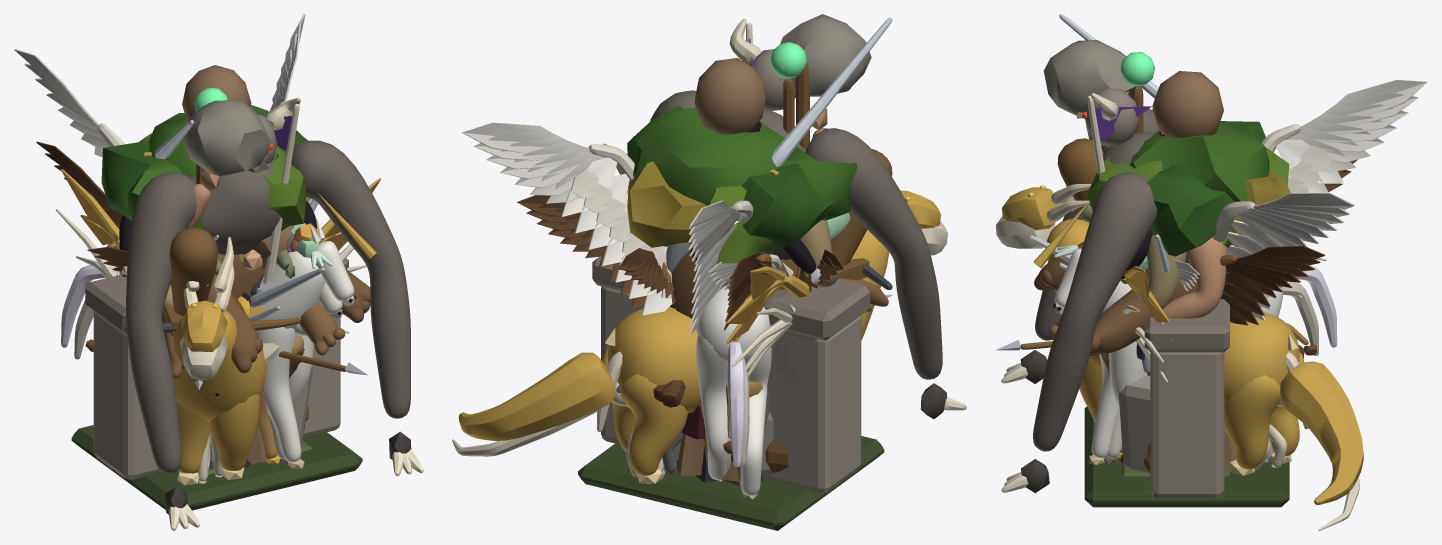
Rendered from creatures.glb.
3 renders of one model, left to right at view 1: azimuth 30°, elevation 25°; view 2: azimuth 150°, elevation 25°; view 3: azimuth 270°, elevation 25°, orthographic. The views are drawn at different scales.
Parts seen in each view (by area): view 1: ork_behemoth, elf_goldwyrm, ob_wall, elf_treefather, elf_unicorn, ob_swamp, ork_cyclops, ob_wall_cracked, men_angel, nec_bonedragon, men_monk, ork_ogre (+11 smaller); view 2: elf_treefather, elf_goldwyrm, ob_wall, men_angel, ork_behemoth, elf_unicorn, ob_swamp, men_monk, ob_wall_cracked, ork_roc, ork_cyclops, nec_bonedragon (+9 smaller); view 3: elf_goldwyrm, ork_behemoth, elf_treefather, men_angel, ob_wall, ork_cyclops, ob_wall_cracked, ob_swamp, elf_unicorn, ork_roc, men_monk, nec_bonedragon (+5 smaller).
Part boxes in pixels (bbox=[...]): ork_behemoth: bbox=[126, 98, 423, 530]; elf_goldwyrm: bbox=[60, 169, 380, 485]; ob_wall: bbox=[85, 253, 348, 479]; elf_treefather: bbox=[101, 105, 370, 429]; elf_unicorn: bbox=[61, 192, 376, 468]; ob_swamp: bbox=[71, 425, 362, 510]; ork_cyclops: bbox=[182, 100, 271, 228]; ob_wall_cracked: bbox=[94, 340, 340, 479]; men_angel: bbox=[14, 14, 305, 240]; nec_bonedragon: bbox=[55, 208, 385, 483]; men_monk: bbox=[182, 65, 294, 462]; ork_ogre: bbox=[163, 197, 316, 316]; elf_treefather: bbox=[627, 105, 857, 318]; elf_goldwyrm: bbox=[458, 143, 940, 483]; ob_wall: bbox=[592, 256, 869, 493]; men_angel: bbox=[462, 122, 753, 335]; ork_behemoth: bbox=[650, 18, 966, 486]; elf_unicorn: bbox=[696, 285, 771, 499]; ob_swamp: bbox=[578, 436, 884, 530]; men_monk: bbox=[676, 58, 809, 481]; ob_wall_cracked: bbox=[601, 309, 861, 493]; ork_roc: bbox=[517, 195, 771, 407]; ork_cyclops: bbox=[780, 14, 871, 137]; nec_bonedragon: bbox=[452, 221, 947, 476]; elf_goldwyrm: bbox=[1002, 184, 1363, 504]; ork_behemoth: bbox=[1001, 88, 1158, 493]; elf_treefather: bbox=[1034, 109, 1291, 473]; men_angel: bbox=[1213, 79, 1427, 320]; ob_wall: bbox=[1144, 299, 1229, 452]; ork_cyclops: bbox=[1043, 40, 1227, 318]; ob_wall_cracked: bbox=[1150, 403, 1224, 498]; ob_swamp: bbox=[1084, 406, 1289, 507]; elf_unicorn: bbox=[1033, 199, 1337, 464]; ork_roc: bbox=[1220, 159, 1357, 358]; men_monk: bbox=[1131, 71, 1235, 466]; nec_bonedragon: bbox=[996, 196, 1359, 530].
Bounding box in the file's own units: 1.37 × 1.57 × 1.52.
